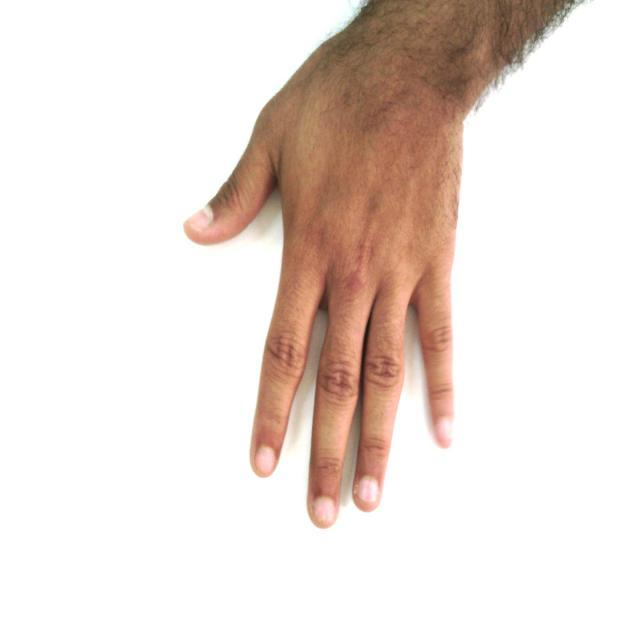Fingernail: (186, 208, 212, 231), (314, 497, 335, 524), (358, 478, 378, 504), (257, 447, 275, 474), (436, 418, 452, 446)
